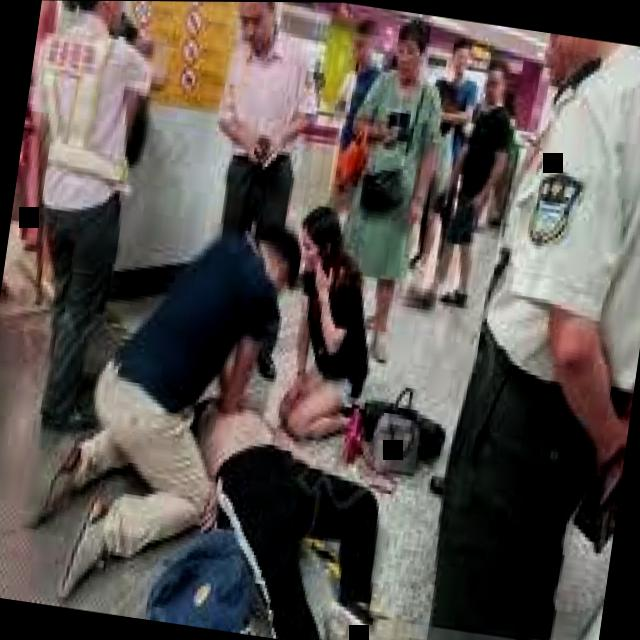Fall-Detected: (147, 364, 431, 640)
